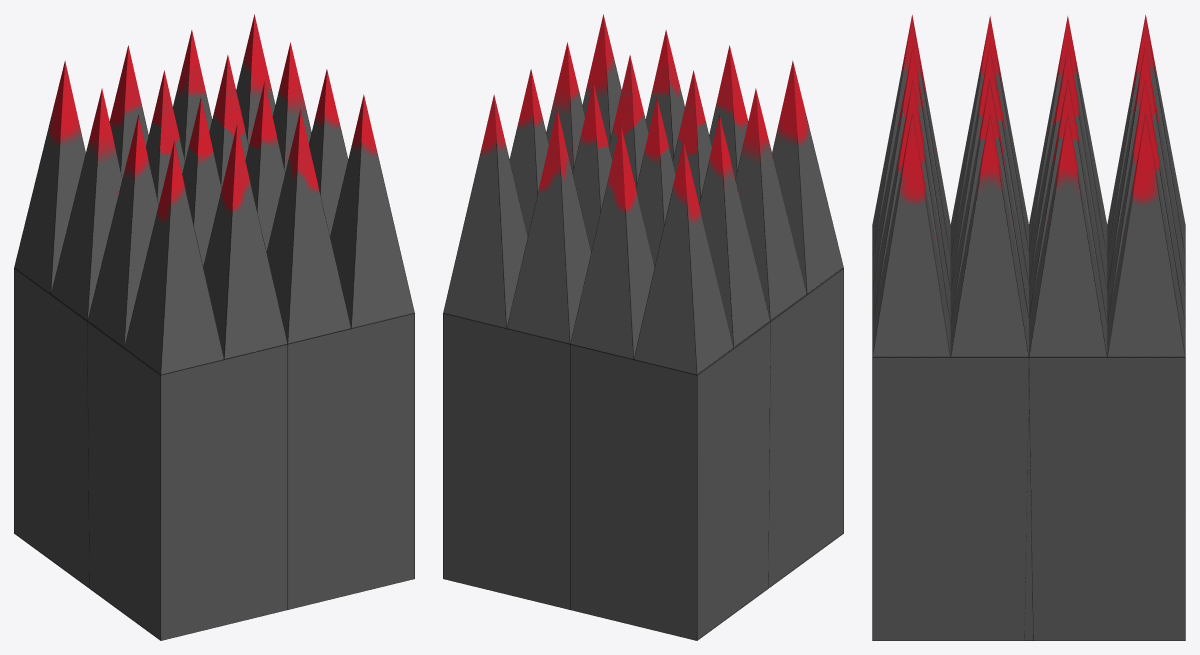
The model's file is thorn.fbx.
The picture shows the model from 3 angles, left to right: view 1: azimuth 30°, elevation 25°; view 2: azimuth 150°, elevation 25°; view 3: azimuth 270°, elevation 25°; orthographic projection. The views are drawn at different scales.
Visible parts, largest first — view 1: Cube; view 2: Cube; view 3: Cube.
Part boxes in pixels (box(x1,y1,x2,y2)): Cube: box(14, 14, 414, 640); Cube: box(443, 14, 843, 640); Cube: box(872, 15, 1185, 640).
Size of the model in its own units: 200 by 362 by 200.
1 material, 1 textured.
